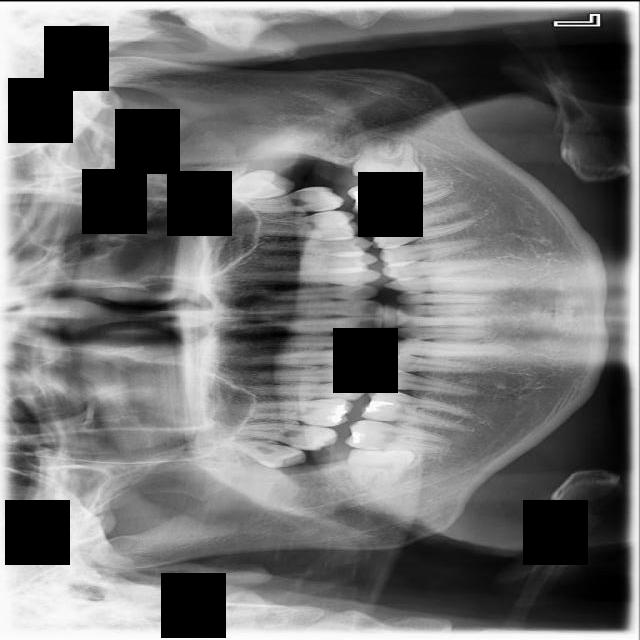3M ESPE Implant: (230, 435, 309, 473)
52: (359, 204, 416, 256), (345, 176, 398, 221), (343, 416, 394, 454), (358, 388, 414, 422), (305, 397, 355, 427)
73: (606, 11, 610, 19)
BioHorizons Implant: (231, 183, 346, 218)
BioLife Implant: (218, 169, 296, 198)
Biomet 3i Implant: (350, 134, 423, 186)
Blue Sky Bio Implant: (347, 177, 454, 218)
Caries: (227, 416, 339, 453)
Implant: (344, 418, 450, 453)
Keystone Dental Implant: (346, 444, 416, 489)
